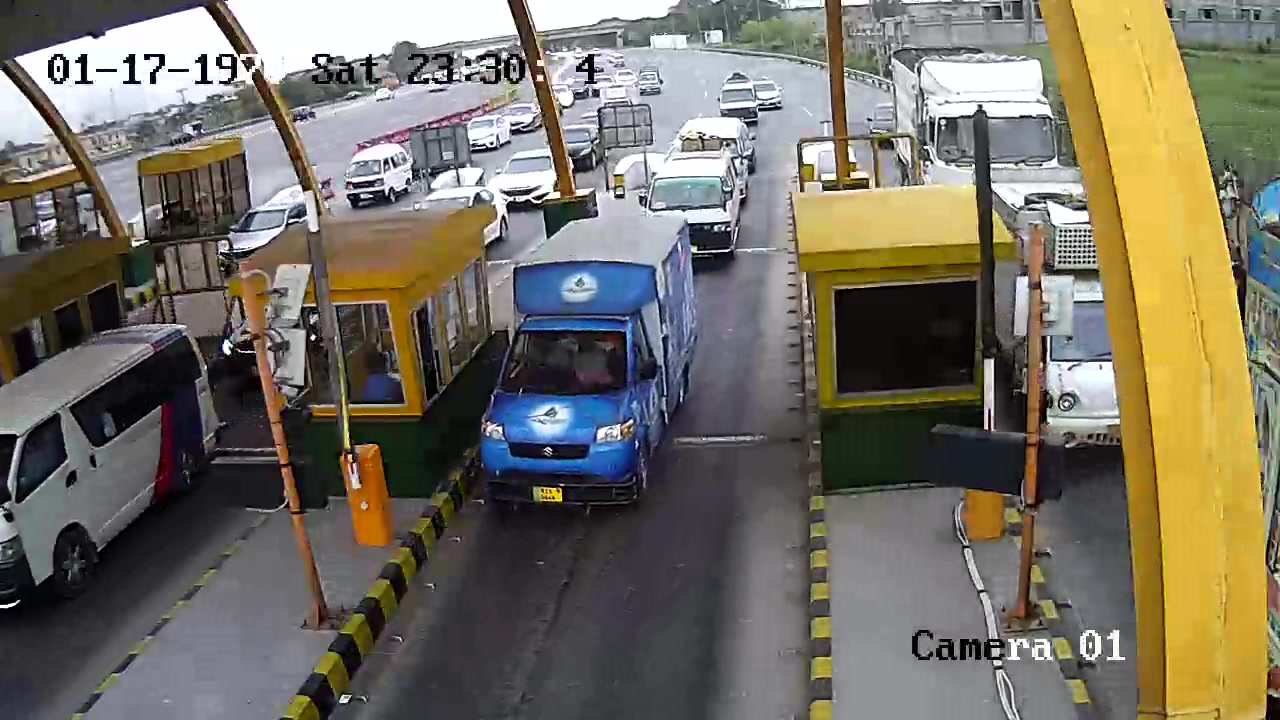F2: (474, 210, 700, 523)
